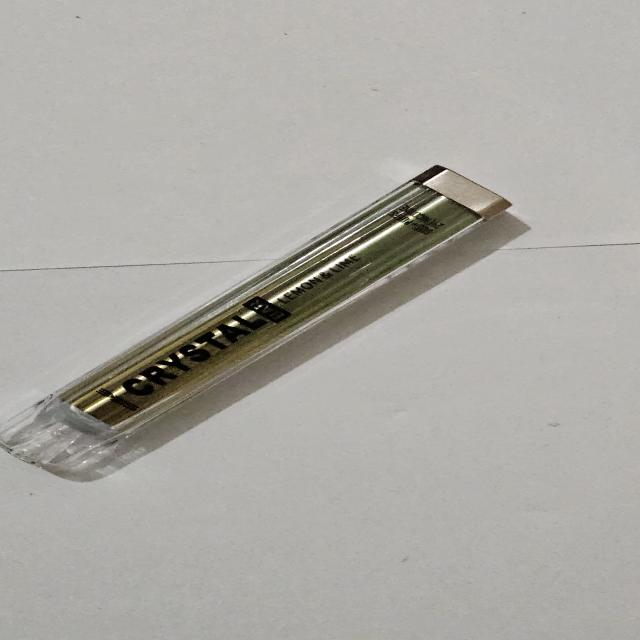Hazard: (2, 163, 517, 483)
